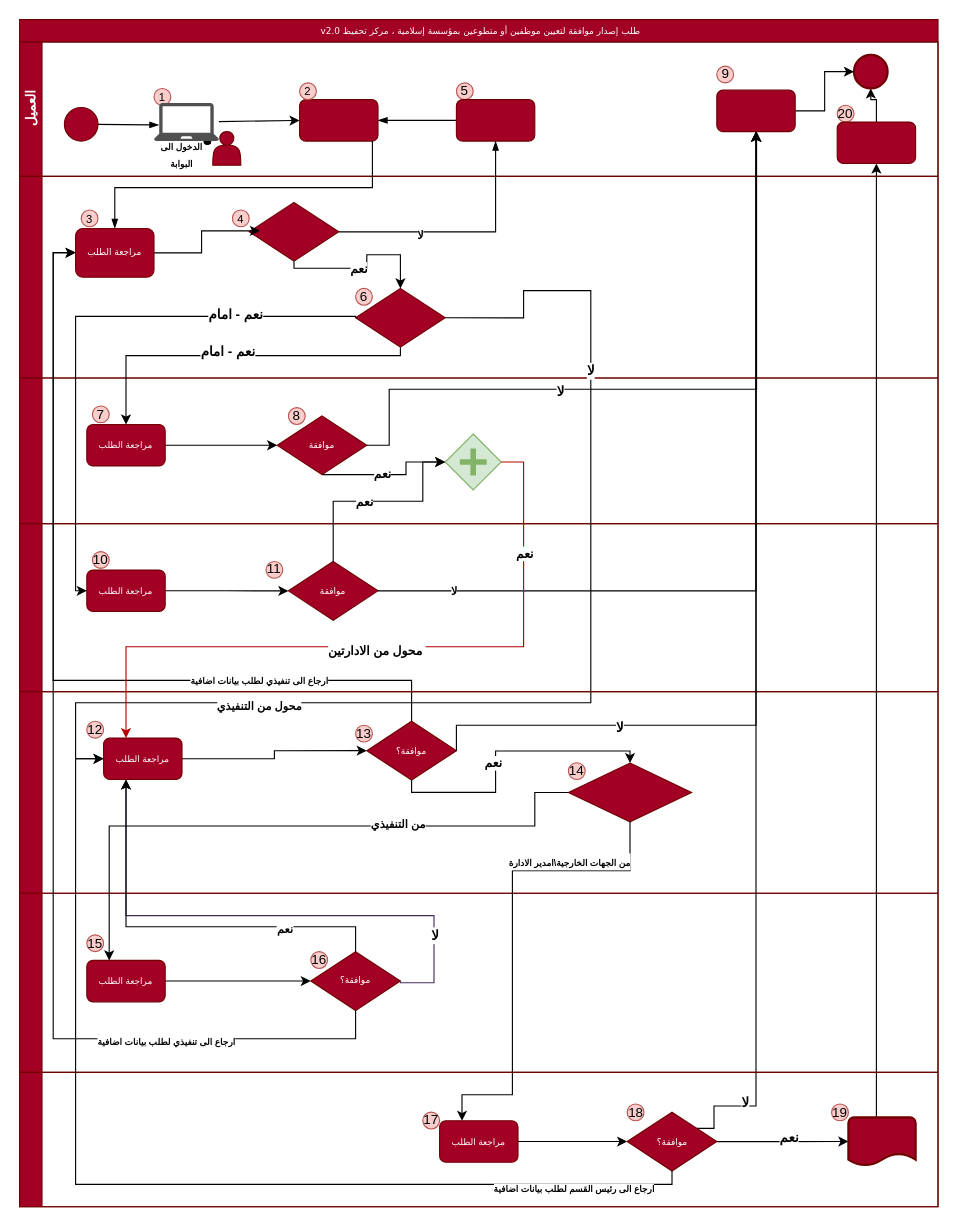
This 958x1226 diagram has some shape labels left out. Here are the shapes that lost their labels. From the top down, the box of each, then its label:
(852, 53, 888, 89): اغلاق
(63, 106, 98, 141): بداية
(298, 99, 378, 141): تعبئة و نموذج طلب تجديد تعيين
(455, 99, 535, 141): استكمال البيانات و إعادة ارساله
(716, 89, 795, 132): ر سالة إعتذار للعميل
(836, 121, 916, 164): اخطار العميل بالموافقة
(248, 201, 339, 261): طلب متكمل؟
(18, 175, 938, 378): تنفيذي
(354, 287, 445, 347): وظيفة امام ؟
(444, 433, 501, 490): تحقق من موافقة الادارتين
(18, 377, 938, 524): إدارة الخدمات الدينية للمساجد
(18, 522, 938, 692): إدارة مراكز مكتوم لتحفيظ القرآن
(18, 690, 938, 893): رئيس القسم
(567, 762, 692, 822): لتحقق من الطلب من الجهات الخارجية\ مدير الإدارة أو من التنفيذي
(18, 892, 938, 1072): الجهات الخارجية
(18, 1071, 938, 1207): مدير الادارة
(847, 1116, 916, 1166): اصدار تصريح
